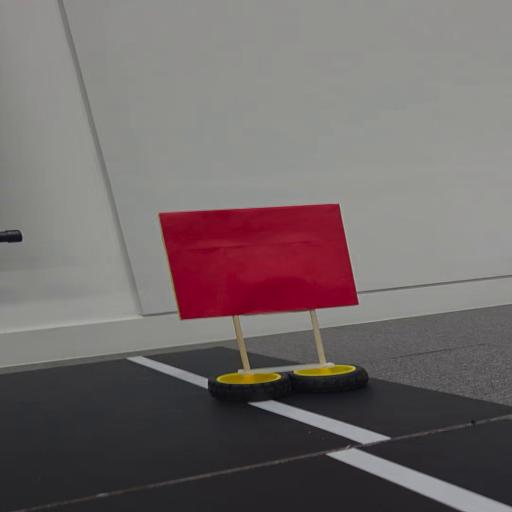Sign_A: (154, 200, 372, 409)
